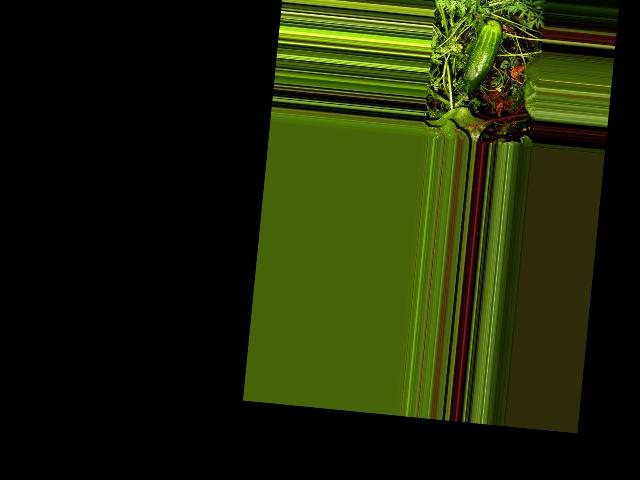cucumber: (458, 18, 503, 97)
